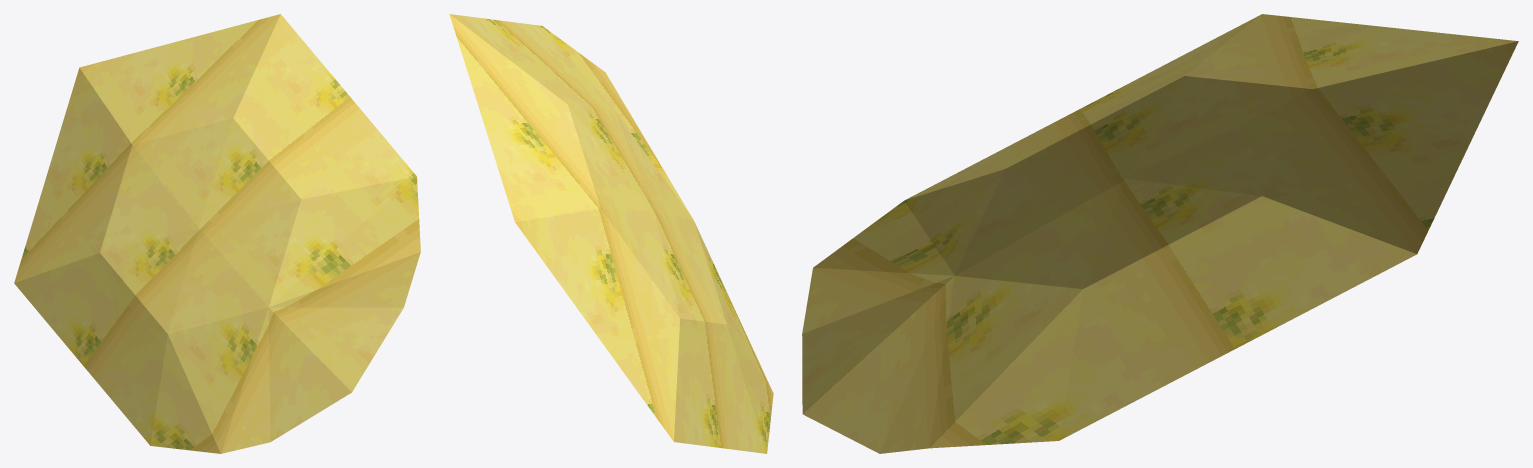
3 renders of one model, left to right at view 1: azimuth 30°, elevation 25°; view 2: azimuth 150°, elevation 25°; view 3: azimuth 270°, elevation 25°, orthographic. The views are drawn at different scales.
Visible parts, largest first — view 1: ef_665; view 2: ef_665; view 3: ef_665.
Part boxes in pixels (left/top/right/bottom): ef_665: left=14, top=14, right=420, bottom=453; ef_665: left=449, top=14, right=773, bottom=453; ef_665: left=802, top=14, right=1518, bottom=453.
Bounding box in the file's own units: 0.2357 × 0.3045 × 0.3379.
Materials: 1 (1 with a texture image).
